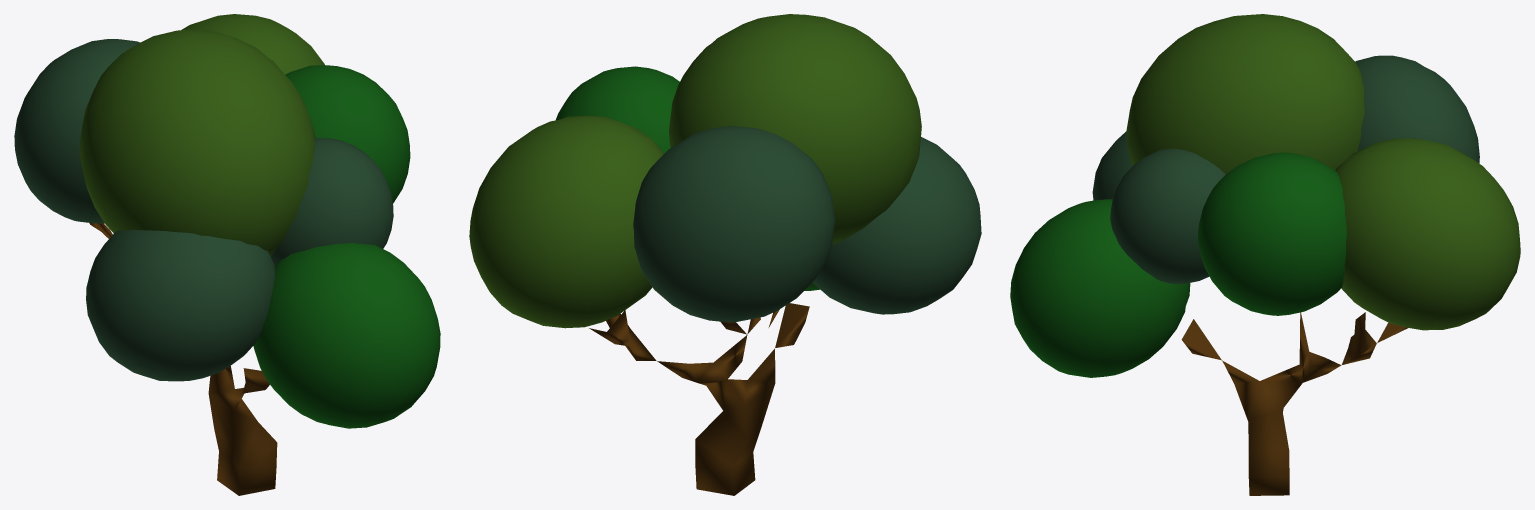
Rendered from tree3_cityedit-medium-DYFMLWlb.glb.
3 views of the same model, side by side, from view 1: azimuth 30°, elevation 25°; view 2: azimuth 150°, elevation 25°; view 3: azimuth 270°, elevation 25° (orthographic). The views are drawn at different scales.
Visible parts, largest first — view 1: Sphere.001, Sphere.005, Sphere.004, Sphere.002, Sphere.006, Sphere.003, Cube, Sphere; view 2: Sphere.001, Sphere.002, Sphere, Sphere.004, Cube, Sphere.003; view 3: Sphere.001, Sphere, Sphere.005, Sphere.003, Sphere.006, Cube, Sphere.002, Sphere.004.
Part boxes in pixels (box(x1,y1,x2,y2)): Sphere.001: box(79, 30, 315, 255); Sphere.005: box(253, 243, 440, 428); Sphere.004: box(86, 229, 274, 381); Sphere.002: box(14, 39, 139, 223); Sphere.006: box(270, 138, 393, 265); Sphere.003: box(285, 65, 410, 203); Cube: box(89, 223, 277, 495); Sphere: box(182, 14, 324, 74); Sphere.001: box(669, 14, 921, 244); Sphere.002: box(633, 126, 835, 322); Sphere: box(469, 115, 663, 328); Sphere.004: box(812, 137, 981, 314); Cube: box(589, 303, 809, 495); Sphere.003: box(556, 66, 679, 153); Sphere.001: box(1126, 14, 1364, 174); Sphere: box(1335, 138, 1520, 330); Sphere.005: box(1010, 199, 1190, 377); Sphere.003: box(1198, 152, 1346, 315); Sphere.006: box(1110, 148, 1225, 284); Cube: box(1181, 312, 1407, 495); Sphere.002: box(1355, 55, 1479, 163); Sphere.004: box(1092, 131, 1132, 200).
Bounding box in the file's own units: 7.87 × 9.93 × 10.51.
